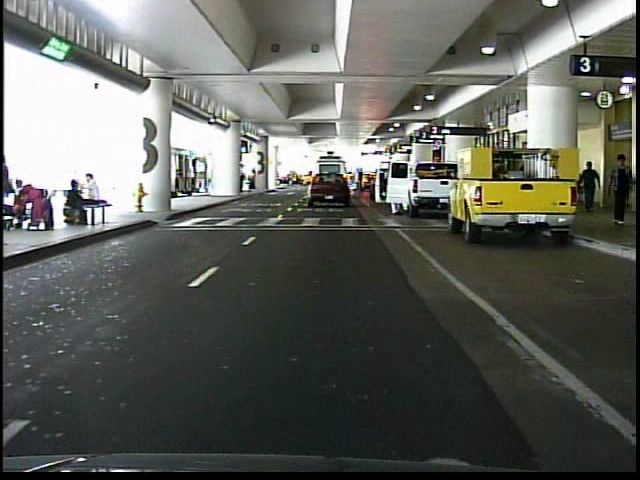person: (605, 149, 628, 227), (576, 155, 603, 212), (248, 167, 260, 192)
